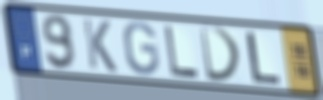9: (40, 13, 79, 72)
D: (197, 23, 244, 84)
G: (122, 21, 161, 78)
K: (80, 16, 120, 75)
L: (162, 23, 202, 80), (245, 30, 284, 86)
